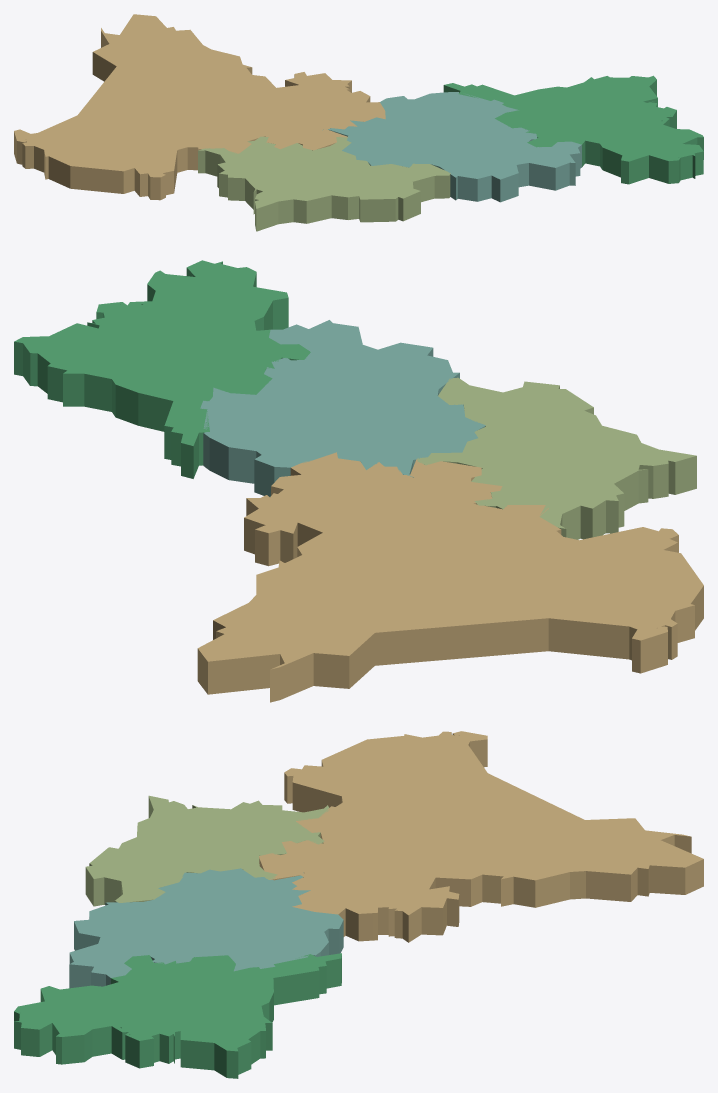
Rendered from slp_regiones.gltf.
The picture shows the model from 3 angles, top to bottom: view 1: azimuth 30°, elevation 25°; view 2: azimuth 150°, elevation 25°; view 3: azimuth 270°, elevation 25°; orthographic projection. The views are drawn at different scales.
Visible parts, largest first — view 1: altiplano, media, centro, huasteca; view 2: altiplano, huasteca, media, centro; view 3: altiplano, huasteca, media, centro.
Boxes of the visible parts, x1,y1,x2,y2 form: altiplano: [14, 14, 385, 200]; media: [322, 92, 581, 202]; centro: [198, 136, 450, 231]; huasteca: [443, 75, 703, 184]; altiplano: [197, 452, 703, 702]; huasteca: [14, 260, 310, 478]; media: [200, 320, 485, 496]; centro: [417, 377, 696, 539]; altiplano: [259, 731, 703, 942]; huasteca: [14, 953, 341, 1078]; media: [69, 868, 343, 988]; centro: [85, 795, 329, 906].
Bounding box in the file's own units: 1 × 0.04 × 0.9103.
